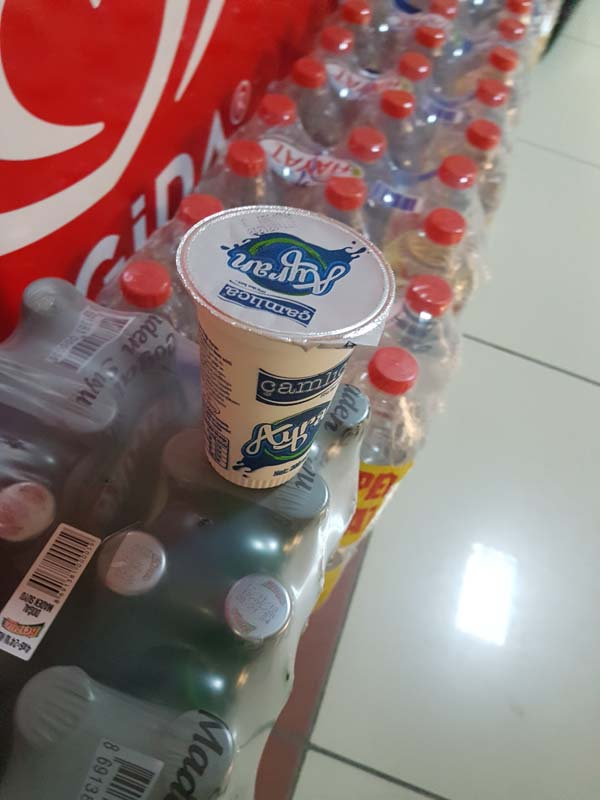camlicaayran: (172, 197, 393, 507)
